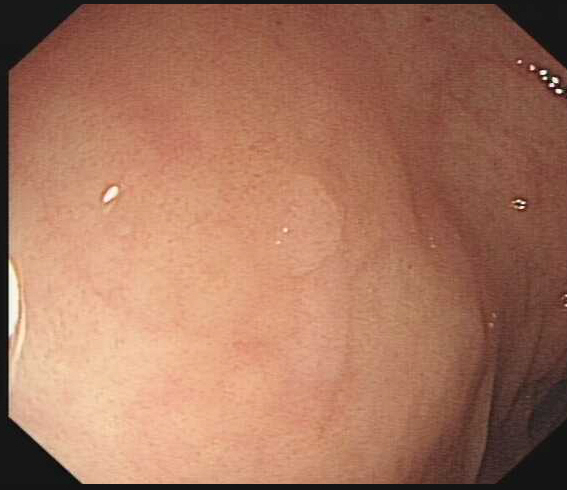others: (255, 171, 344, 281)
